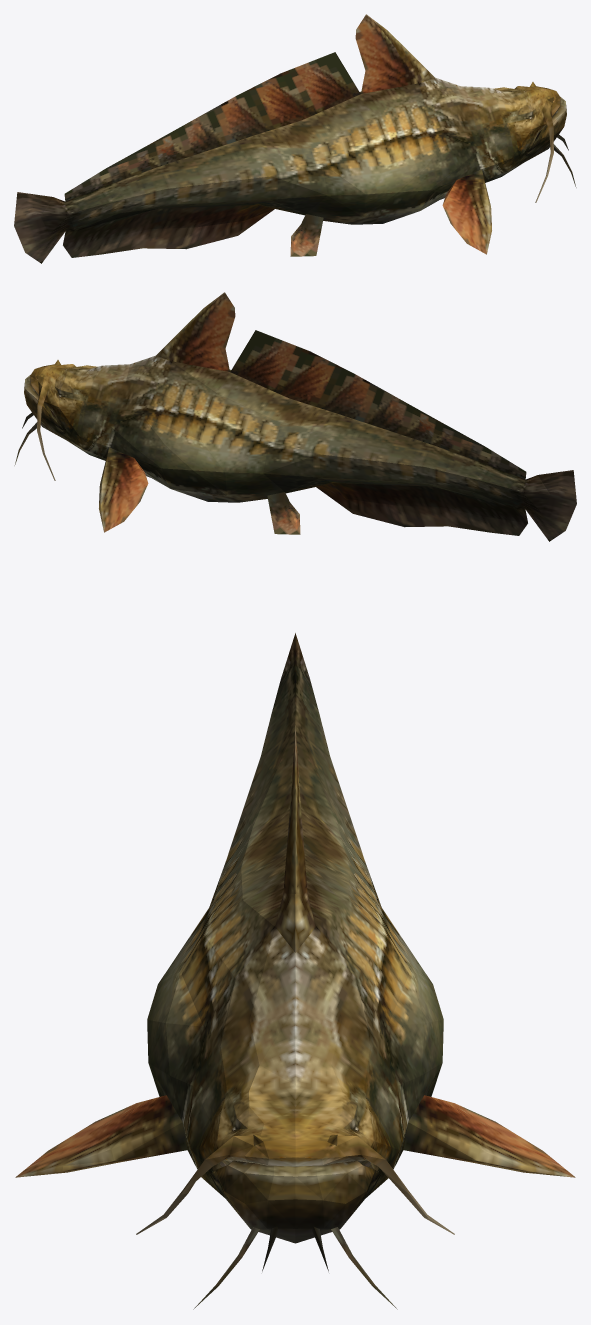
File: Fish3.glb
The picture shows the model from 3 angles, top to bottom: view 1: azimuth 30°, elevation 25°; view 2: azimuth 150°, elevation 25°; view 3: azimuth 270°, elevation 25°; orthographic projection. The views are drawn at different scales.
Visible parts, largest first — view 1: m032_BM_02_Mesh.004; view 2: m032_BM_02_Mesh.004; view 3: m032_BM_02_Mesh.004.
Boxes of the visible parts, <box> form: m032_BM_02_Mesh.004: <box>14,14,576,263</box>; m032_BM_02_Mesh.004: <box>14,292,576,541</box>; m032_BM_02_Mesh.004: <box>15,633,575,1309</box>.
Size of the model in its own units: 5.45 by 1.93 by 2.42.
1 material, 1 textured.
